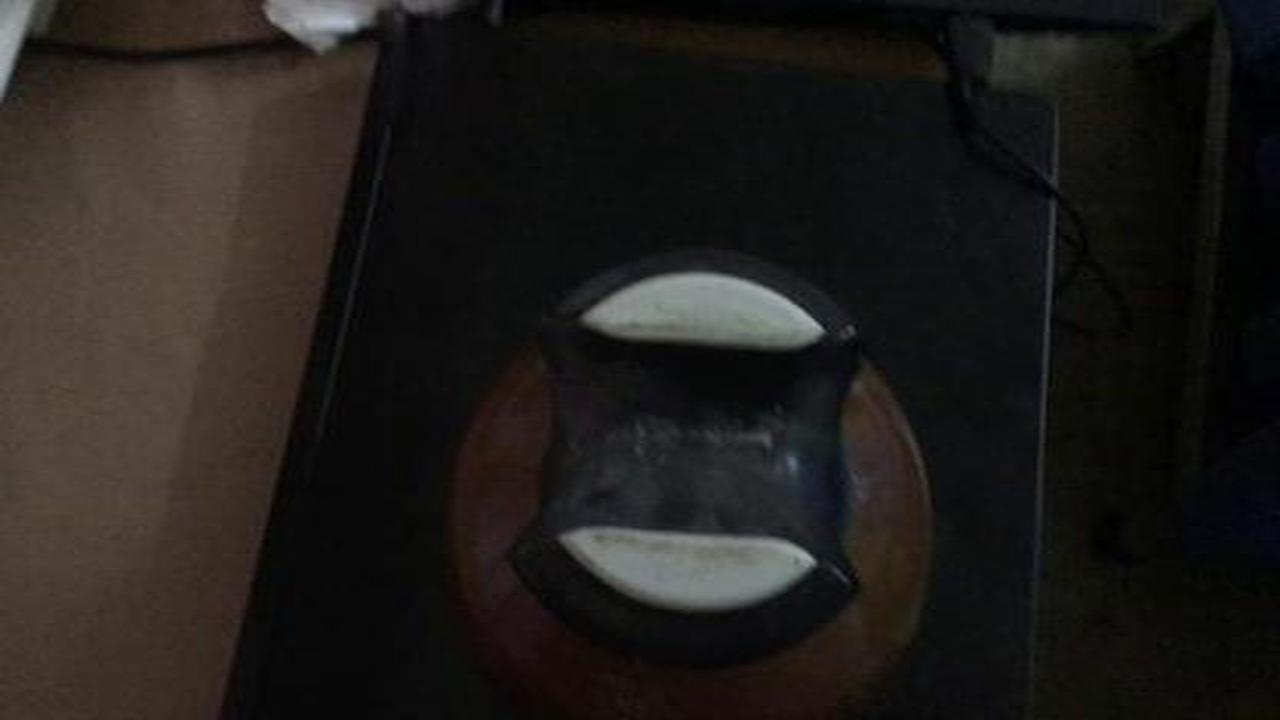insulator_pin: (422, 237, 954, 717)
